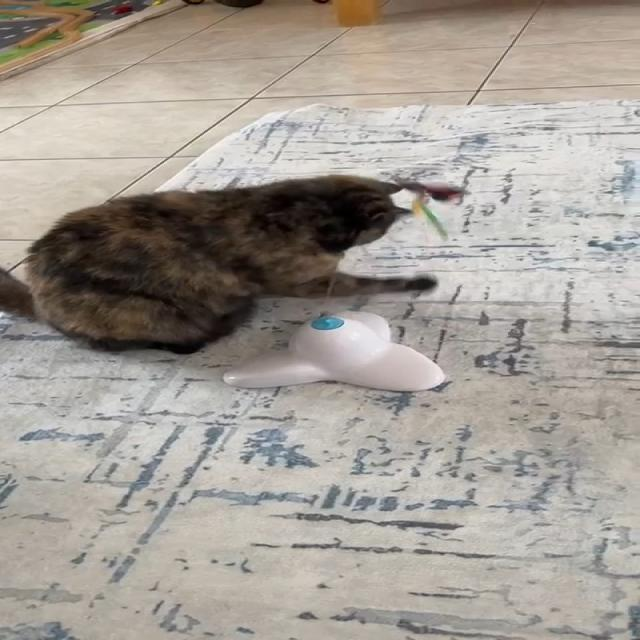authorized: (0, 173, 439, 355)
